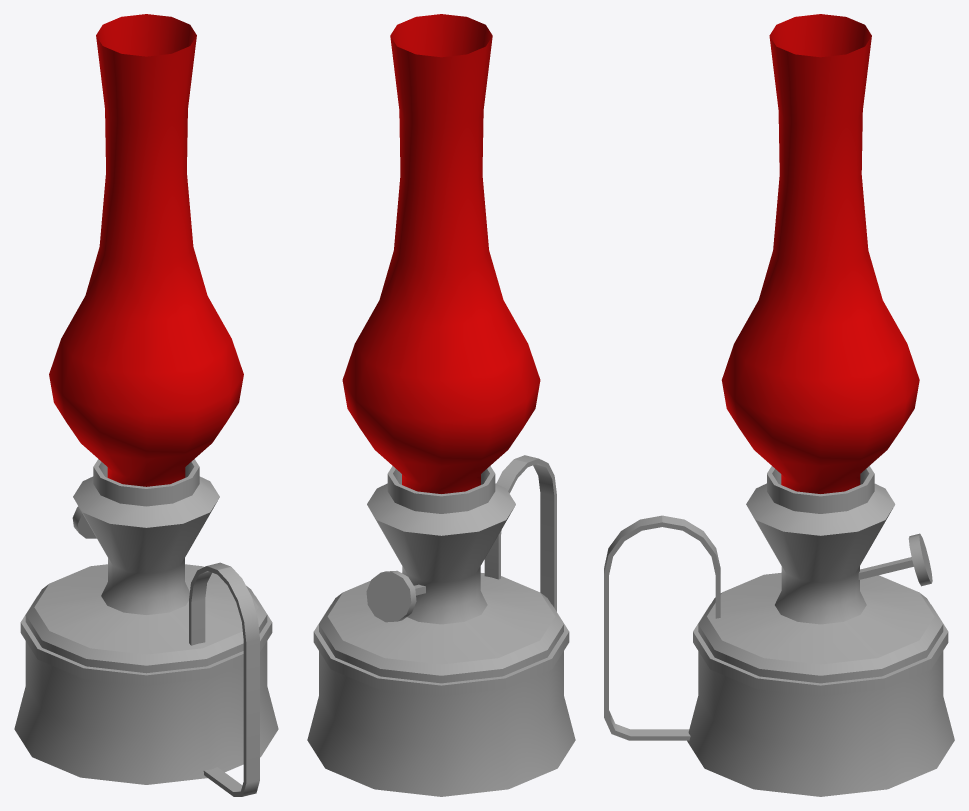
The model's file is Lamp_2.fbx.
3 views of the same model, side by side, from view 1: azimuth 30°, elevation 25°; view 2: azimuth 150°, elevation 25°; view 3: azimuth 270°, elevation 25° (orthographic).
Visible parts, largest first — view 1: Lamp_2; view 2: Lamp_2; view 3: Lamp_2.
Boxes of the visible parts, x1,y1,x2,y2 form: Lamp_2: (14, 14, 278, 796); Lamp_2: (307, 14, 575, 796); Lamp_2: (604, 14, 954, 796).
Bounding box in the file's own units: 5.33 × 15.44 × 6.97.
